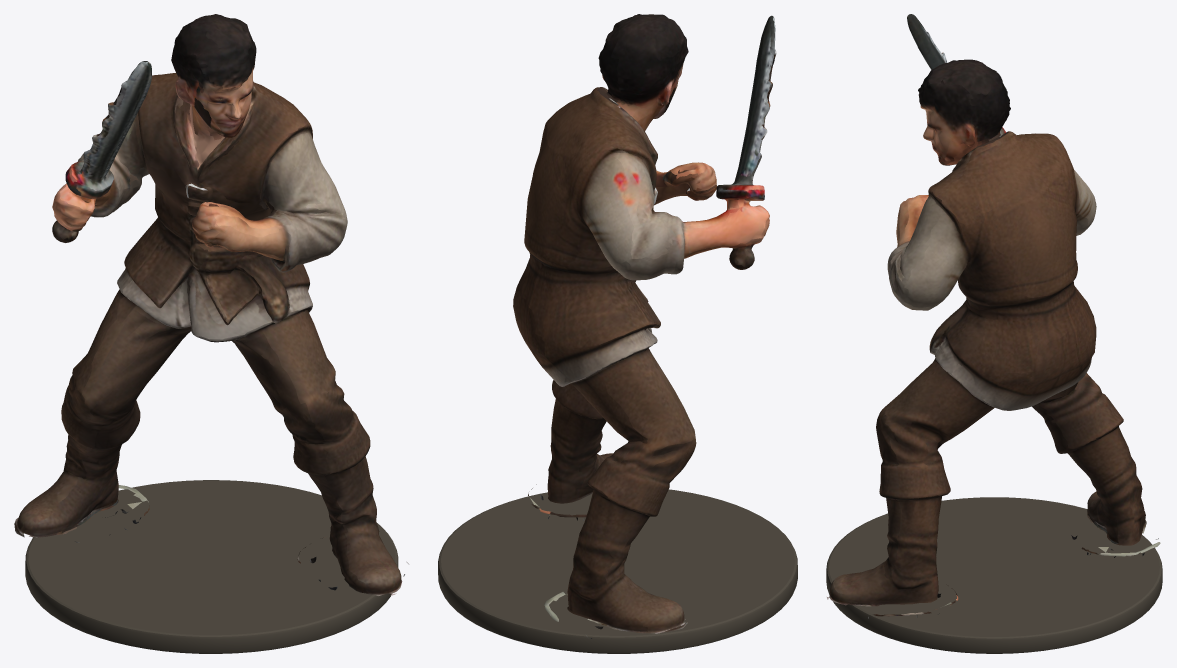
File: human-bandit.glb
3 renders of one model, left to right at view 1: azimuth 30°, elevation 25°; view 2: azimuth 150°, elevation 25°; view 3: azimuth 270°, elevation 25°, orthographic. The views are drawn at different scales.
Visible parts, largest first — view 1: human-bandit_body, human-bandit_round_base; view 2: human-bandit_body, human-bandit_round_base; view 3: human-bandit_body, human-bandit_round_base.
Boxes of the visible parts, x1,y1,x2,y2 form: human-bandit_body: [14, 14, 408, 595]; human-bandit_round_base: [25, 480, 398, 653]; human-bandit_body: [513, 14, 776, 638]; human-bandit_round_base: [438, 489, 797, 653]; human-bandit_body: [827, 14, 1160, 618]; human-bandit_round_base: [826, 497, 1162, 653].
Size of the model in its own units: 1 by 1.71 by 1.
Materials: 2 (1 with a texture image).
